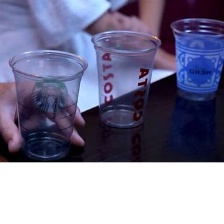glass: (3, 47, 90, 162), (89, 28, 162, 131), (167, 13, 223, 104)
